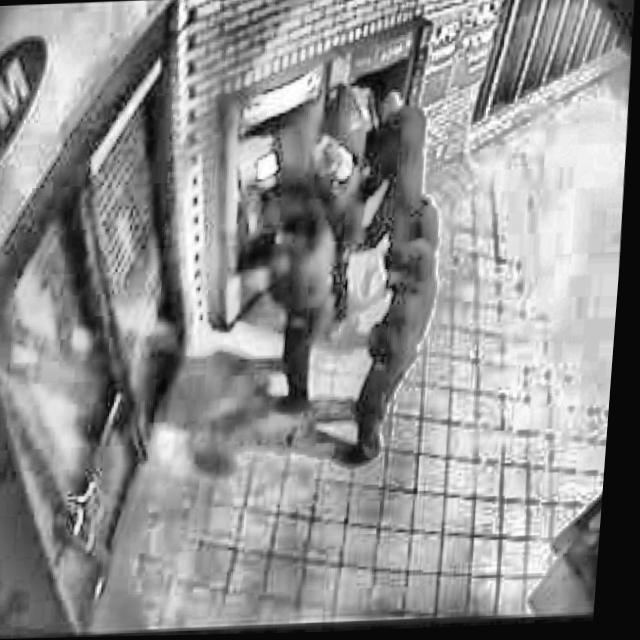burglary: (219, 71, 461, 424)
